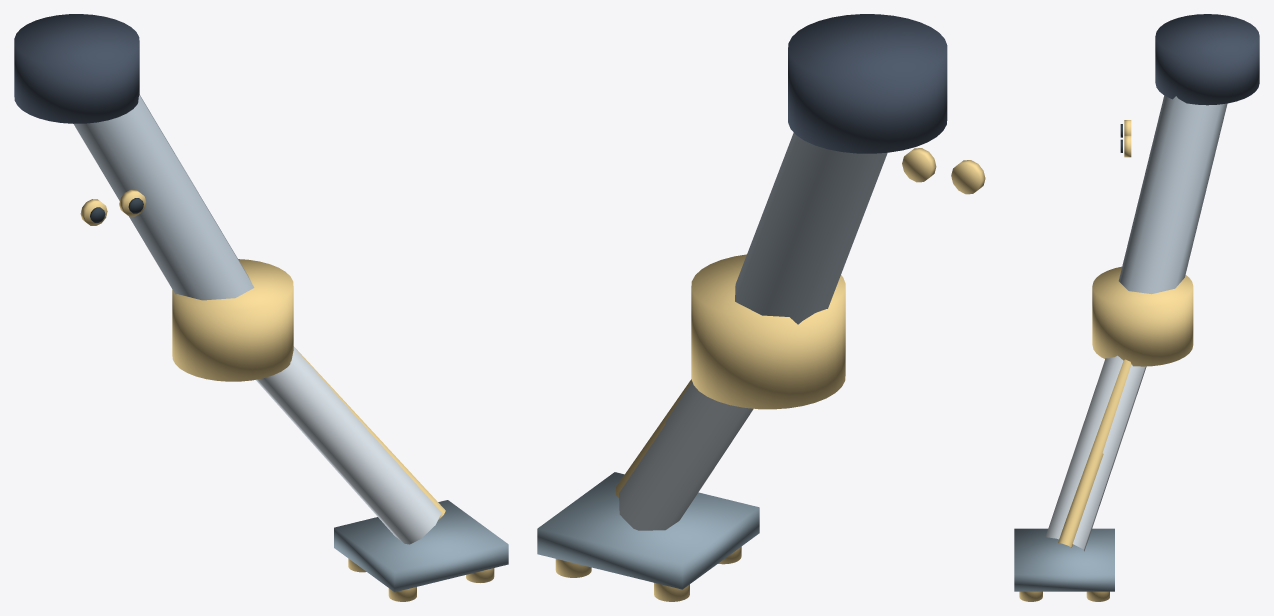
Rendered from 23_L92_ArticulatedLandingLegF.glb.
The picture shows the model from 3 angles, left to right: view 1: azimuth 30°, elevation 25°; view 2: azimuth 150°, elevation 25°; view 3: azimuth 270°, elevation 25°; orthographic projection. The views are drawn at different scales.
Parts seen in each view (by area): view 1: L92_ArticulatedLandingLegF_Part_0000, L92_ArticulatedLandingLegF_Part_0002, L92_ArticulatedLandingLegF_Part_0003, L92_ArticulatedLandingLegF_Part_0004, L92_ArticulatedLandingLegF_Part_0005, L92_ArticulatedLandingLegF_Part_0006; view 2: L92_ArticulatedLandingLegF_Part_0002, L92_ArticulatedLandingLegF_Part_0003, L92_ArticulatedLandingLegF_Part_0000, L92_ArticulatedLandingLegF_Part_0005, L92_ArticulatedLandingLegF_Part_0004, L92_ArticulatedLandingLegF_Part_0006, L92_ArticulatedLandingLegF_Part_0007, L92_ArticulatedLandingLegF_Part_0009; view 3: L92_ArticulatedLandingLegF_Part_0000, L92_ArticulatedLandingLegF_Part_0003, L92_ArticulatedLandingLegF_Part_0002, L92_ArticulatedLandingLegF_Part_0004, L92_ArticulatedLandingLegF_Part_0005, L92_ArticulatedLandingLegF_Part_0006.
Part boxes in pixels (left/top/right/bottom): L92_ArticulatedLandingLegF_Part_0000: left=73, top=95, right=254, bottom=300; L92_ArticulatedLandingLegF_Part_0002: left=14, top=14, right=139, bottom=123; L92_ArticulatedLandingLegF_Part_0003: left=172, top=259, right=445, bottom=520; L92_ArticulatedLandingLegF_Part_0004: left=256, top=347, right=441, bottom=544; L92_ArticulatedLandingLegF_Part_0005: left=334, top=500, right=508, bottom=592; L92_ArticulatedLandingLegF_Part_0006: left=348, top=558, right=494, bottom=601; L92_ArticulatedLandingLegF_Part_0002: left=788, top=14, right=947, bottom=153; L92_ArticulatedLandingLegF_Part_0003: left=616, top=254, right=845, bottom=497; L92_ArticulatedLandingLegF_Part_0000: left=735, top=133, right=887, bottom=324; L92_ArticulatedLandingLegF_Part_0005: left=537, top=472, right=759, bottom=589; L92_ArticulatedLandingLegF_Part_0004: left=619, top=382, right=753, bottom=530; L92_ArticulatedLandingLegF_Part_0006: left=555, top=546, right=741, bottom=601; L92_ArticulatedLandingLegF_Part_0007: left=951, top=160, right=985, bottom=194; L92_ArticulatedLandingLegF_Part_0009: left=902, top=148, right=936, bottom=182; L92_ArticulatedLandingLegF_Part_0000: left=1118, top=95, right=1227, bottom=294; L92_ArticulatedLandingLegF_Part_0003: left=1058, top=266, right=1193, bottom=547; L92_ArticulatedLandingLegF_Part_0002: left=1155, top=14, right=1259, bottom=105; L92_ArticulatedLandingLegF_Part_0004: left=1045, top=355, right=1146, bottom=551; L92_ArticulatedLandingLegF_Part_0005: left=1014, top=528, right=1114, bottom=591; L92_ArticulatedLandingLegF_Part_0006: left=1019, top=591, right=1109, bottom=601.
Size of the model in its own units: 2.11 by 2.9 by 1.46.
